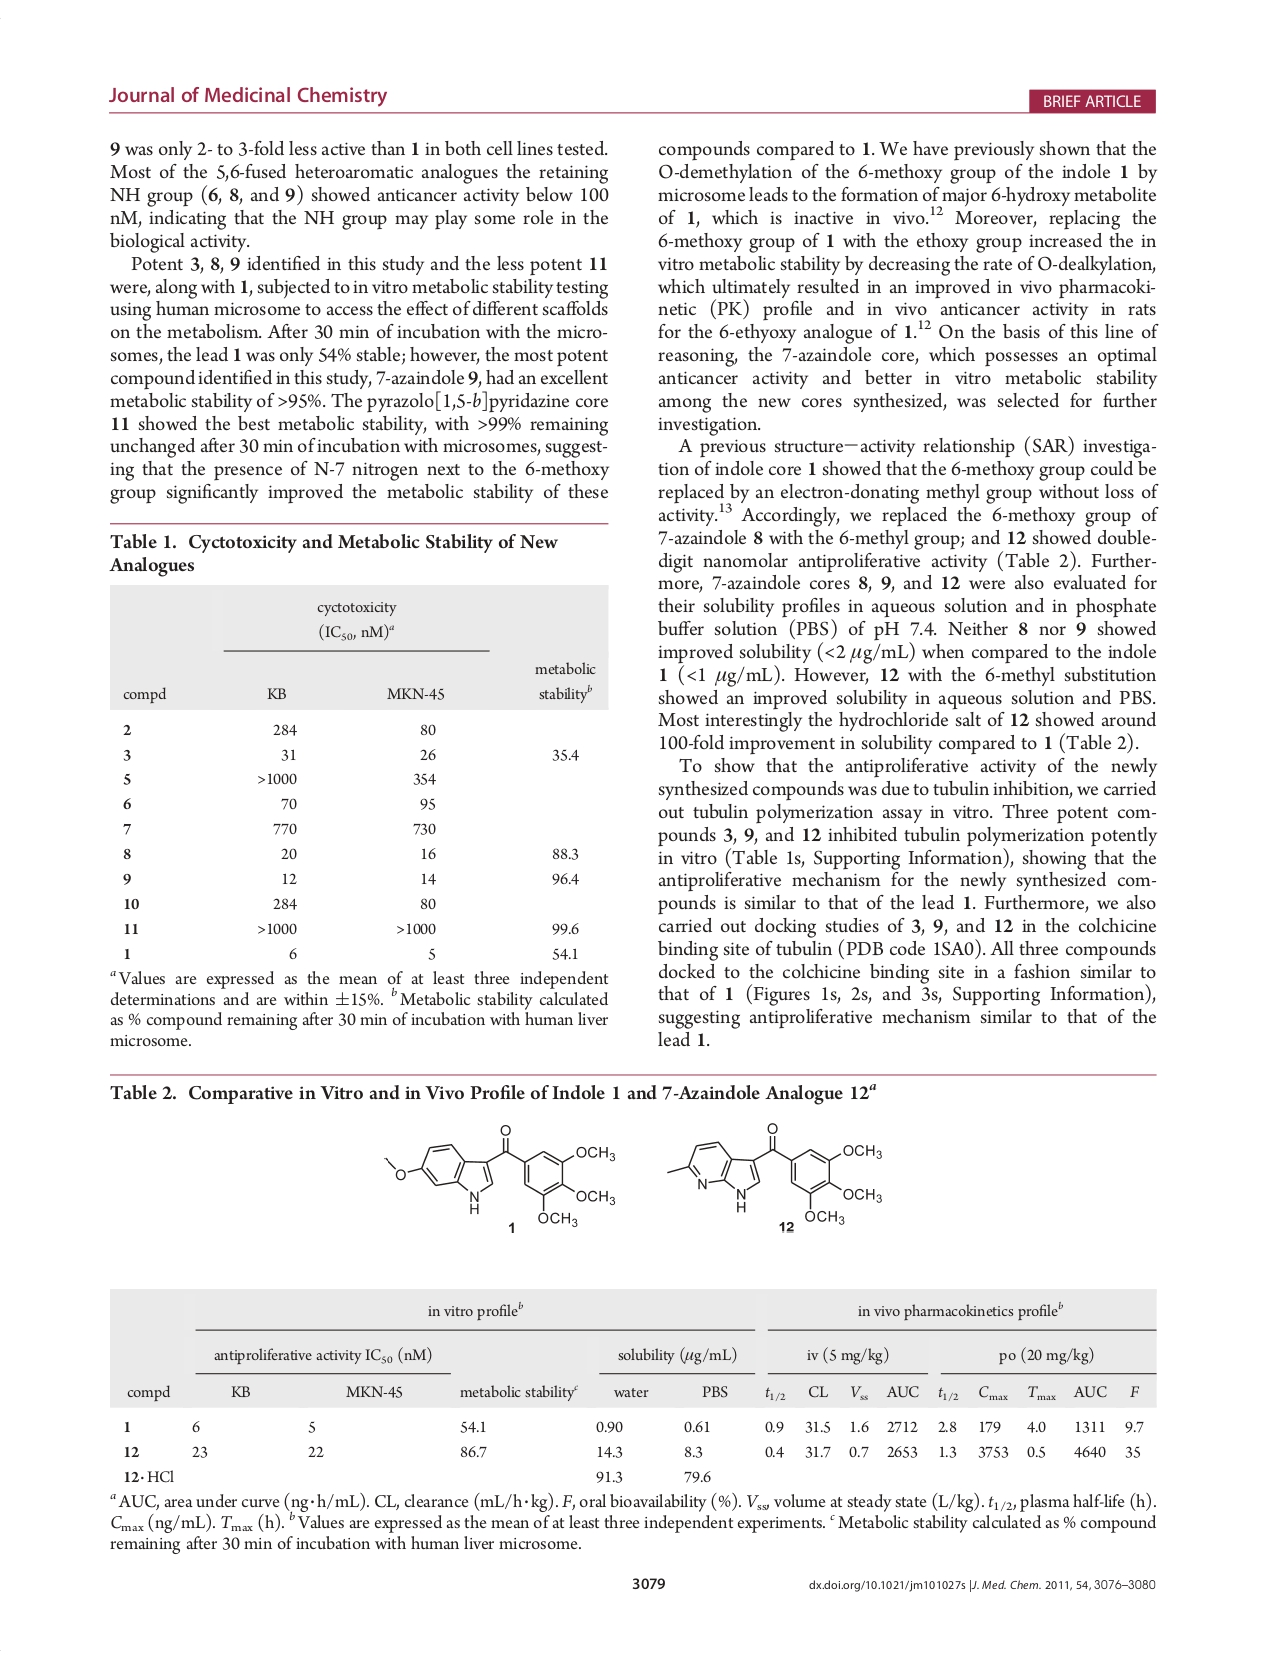exist_molecular: (382, 1122, 618, 1227), (662, 1121, 884, 1229)
